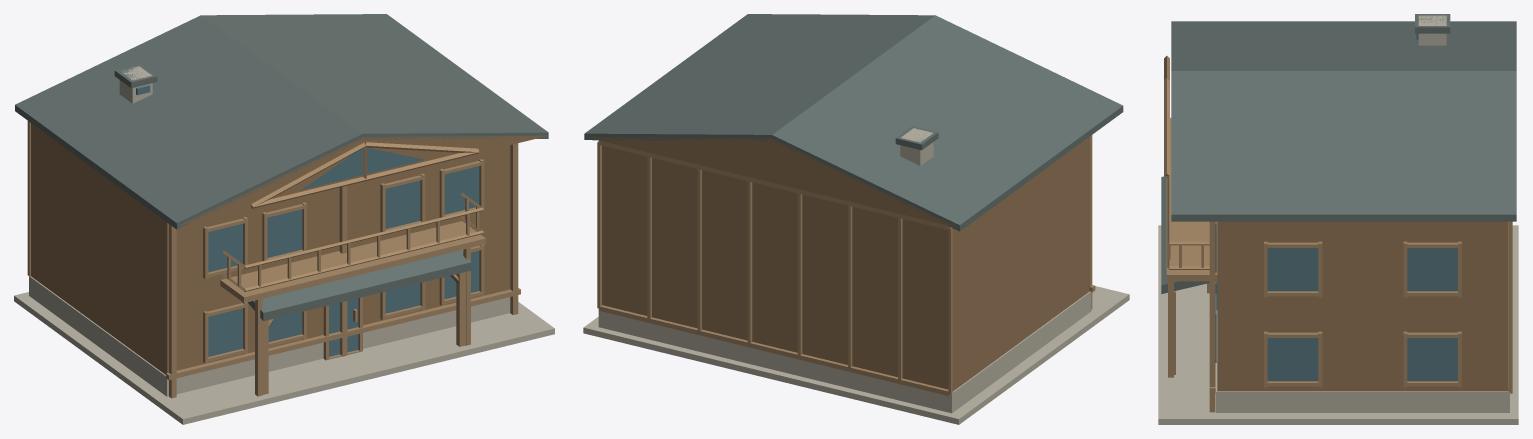
File: house_medium_01.glb
The picture shows the model from 3 angles, left to right: view 1: azimuth 30°, elevation 25°; view 2: azimuth 150°, elevation 25°; view 3: azimuth 270°, elevation 25°; orthographic projection. The views are drawn at different scales.
Parts seen in each view (by area): view 1: House_medium_01; view 2: House_medium_01; view 3: House_medium_01.
Boxes of the visible parts, left/top/right/bottom form: House_medium_01: left=14, top=14, right=554, bottom=424; House_medium_01: left=583, top=14, right=1129, bottom=424; House_medium_01: left=1158, top=14, right=1518, bottom=424.
Size of the model in its own units: 12.2 by 7.56 by 9.6.
